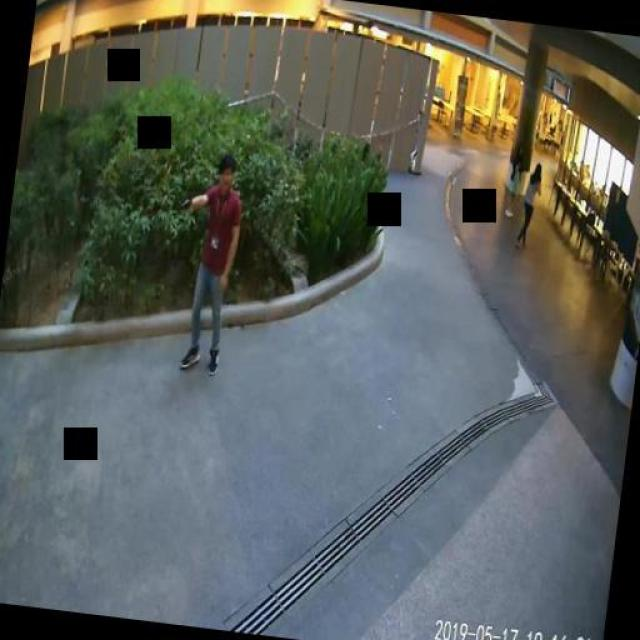gun: (176, 194, 192, 212)
